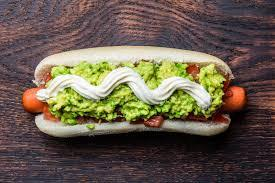Completos: (33, 49, 246, 139)
